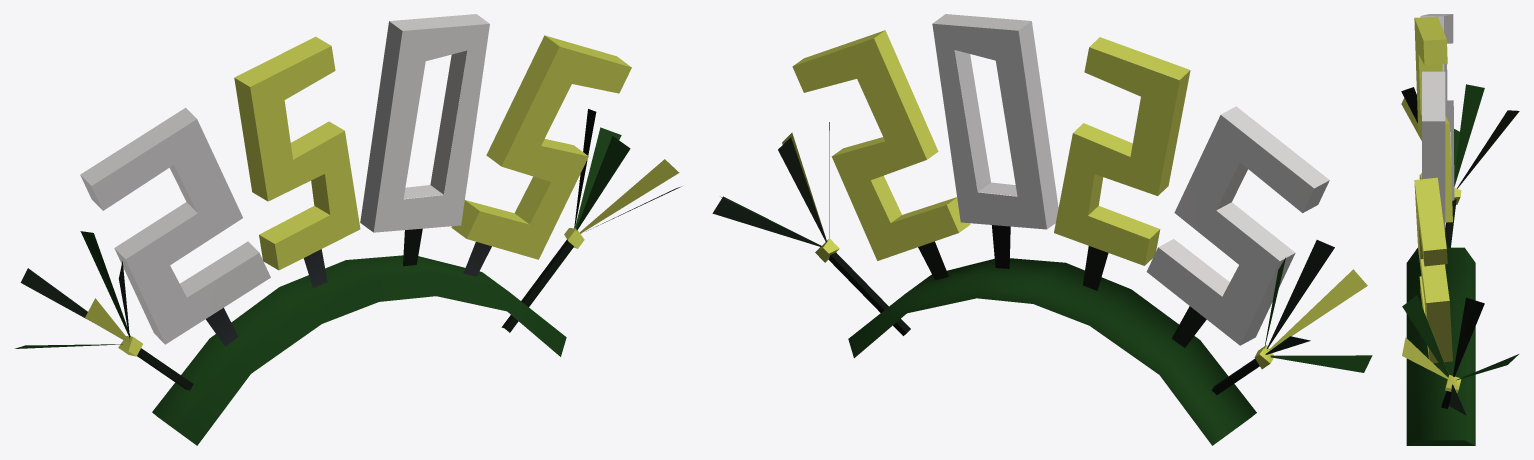
Rendered from hat_2025.glb.
The picture shows the model from 3 angles, left to right: view 1: azimuth 30°, elevation 25°; view 2: azimuth 150°, elevation 25°; view 3: azimuth 270°, elevation 25°; orthographic projection. The views are drawn at different scales.
Visible parts, largest first — view 1: hat_2025; view 2: hat_2025; view 3: hat_2025.
Boxes of the visible parts, x1=… form: hat_2025: x1=15, y1=14, x2=681, y2=445; hat_2025: x1=712, y1=14, x2=1372, y2=445; hat_2025: x1=1401, y1=14, x2=1519, y2=445.
Bounding box in the file's own units: 0.4822 × 0.2495 × 0.0861.
